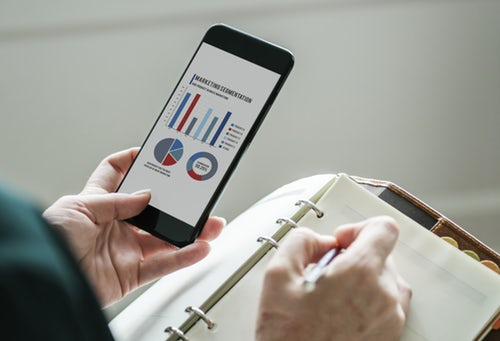phone: (113, 23, 296, 253)
